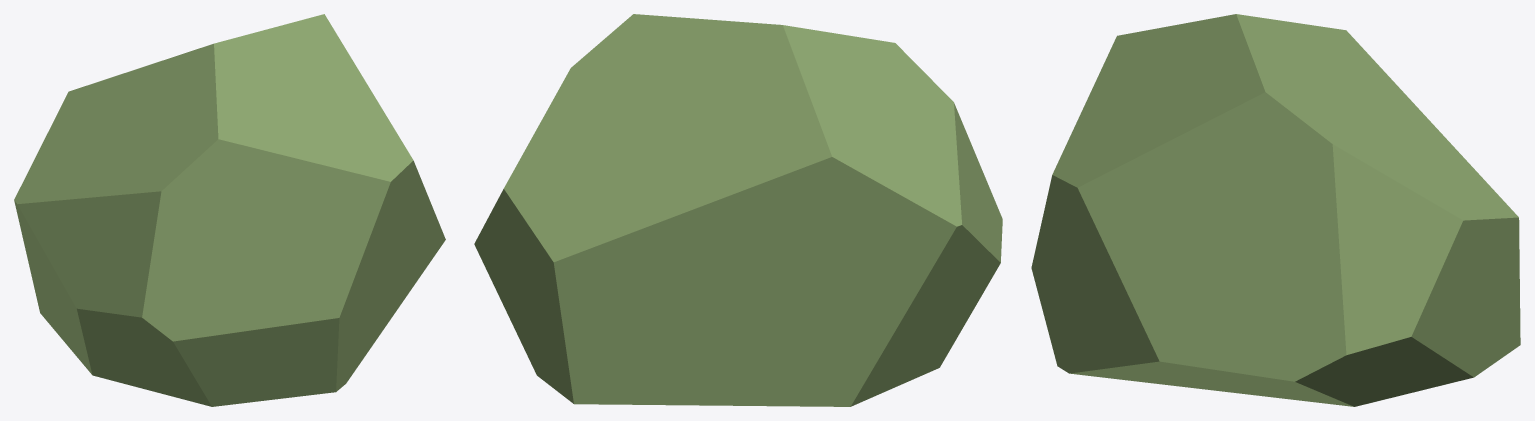
File: brigesRock_Type2_04_mesh_001.fbx
The picture shows the model from 3 angles, left to right: view 1: azimuth 30°, elevation 25°; view 2: azimuth 150°, elevation 25°; view 3: azimuth 270°, elevation 25°; orthographic projection. The views are drawn at different scales.
Parts seen in each view (by area): view 1: Rock Type2 04 mesh.001; view 2: Rock Type2 04 mesh.001; view 3: Rock Type2 04 mesh.001.
Part boxes in pixels (box(x1,y1,x2,y2)): Rock Type2 04 mesh.001: box(14, 14, 445, 406); Rock Type2 04 mesh.001: box(474, 14, 1002, 406); Rock Type2 04 mesh.001: box(1031, 14, 1520, 406).
Size of the model in its own units: 74.84 by 52.9 by 71.03.
